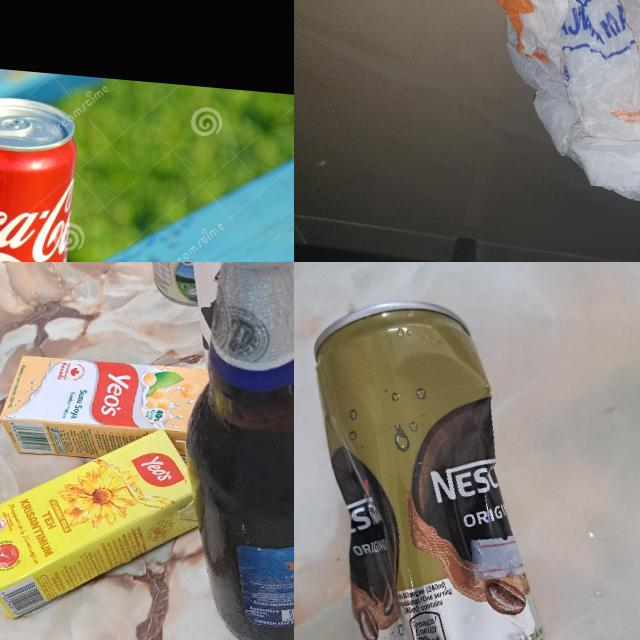aba de lata: (0, 110, 32, 136)
caixinha: (0, 413, 207, 633), (0, 352, 208, 467), (162, 262, 294, 355)
garrafa de vidro: (168, 262, 294, 640)
lata: (294, 292, 573, 640), (0, 92, 80, 262), (125, 262, 212, 307)
sacola plástica: (464, 0, 640, 229)
